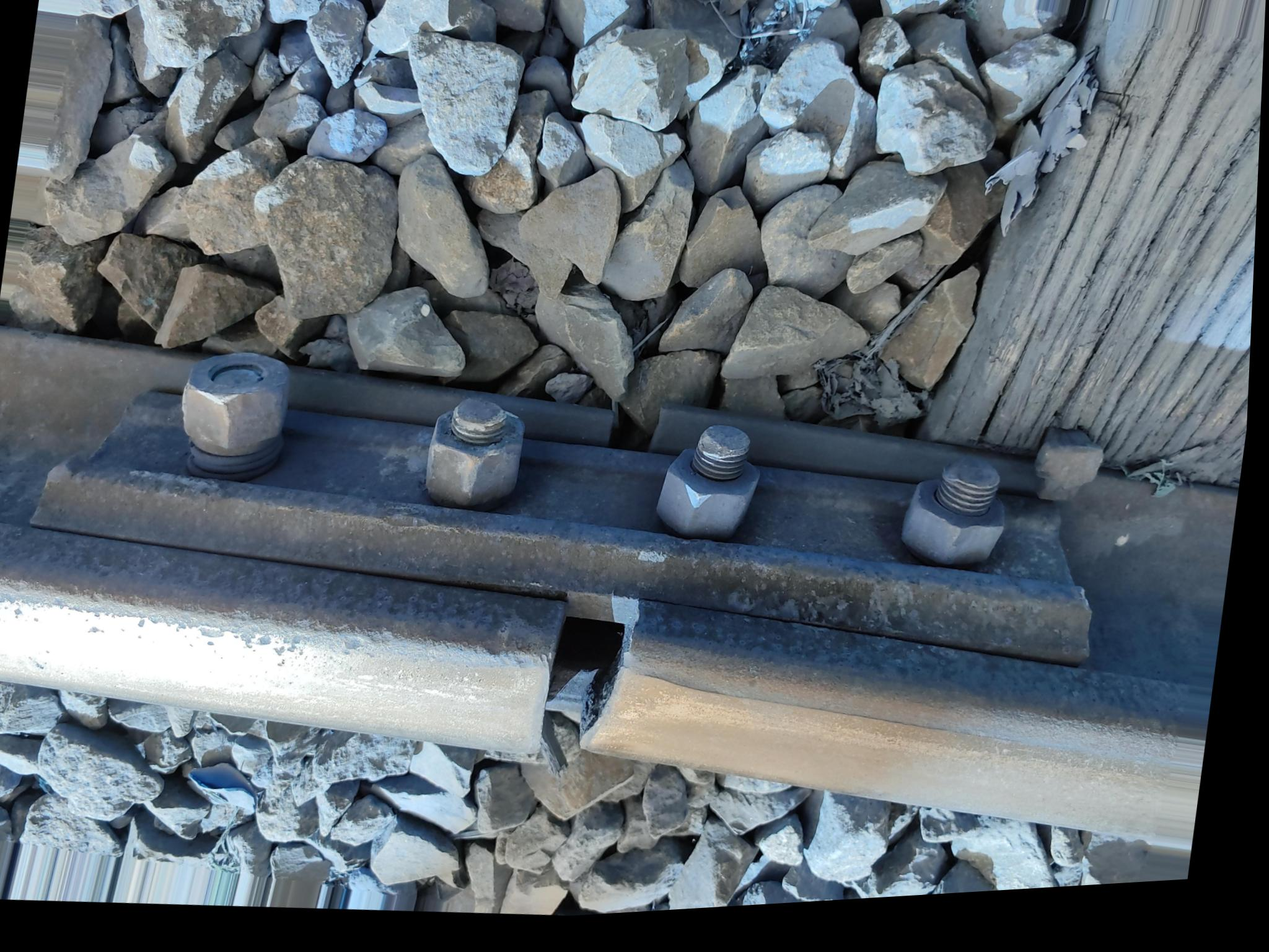person: (439, 543, 750, 828), (581, 393, 683, 494)
